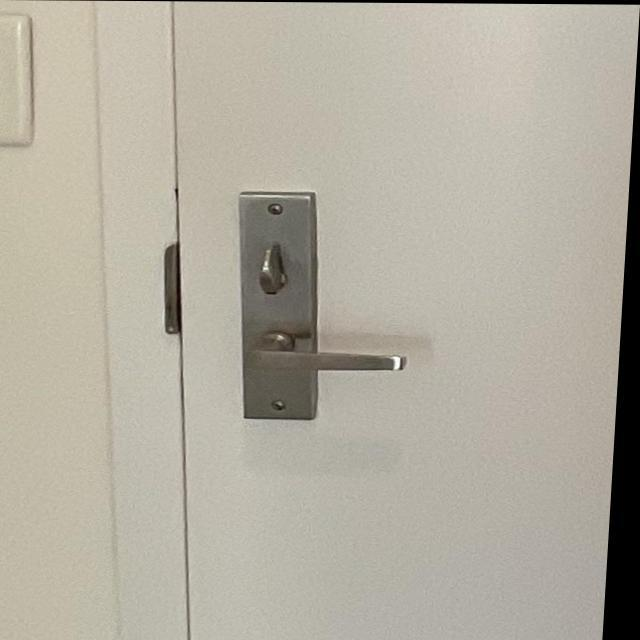door_handle: (230, 320, 426, 389)
